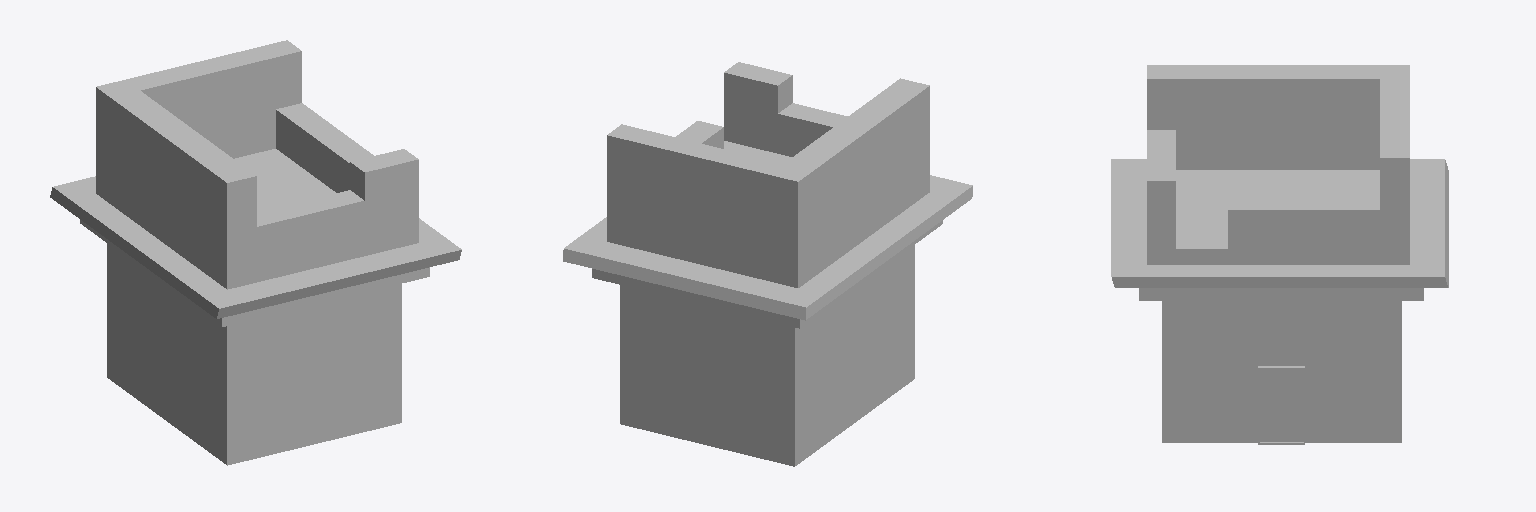
Rendered from DestroyedHouse.obj.
3 views of the same model, side by side, from view 1: azimuth 30°, elevation 25°; view 2: azimuth 150°, elevation 25°; view 3: azimuth 270°, elevation 25° (orthographic).
Visible parts, largest first — view 1: Destroyed_House; view 2: Destroyed_House; view 3: Destroyed_House, Door.
Part boxes in pixels (x1,y1,x2,y2): Destroyed_House: (50, 40, 461, 465); Destroyed_House: (563, 62, 972, 466); Destroyed_House: (1111, 65, 1448, 442); Door: (1258, 366, 1304, 444).
Bounding box in the file's own units: 4044 × 4596 × 4846.